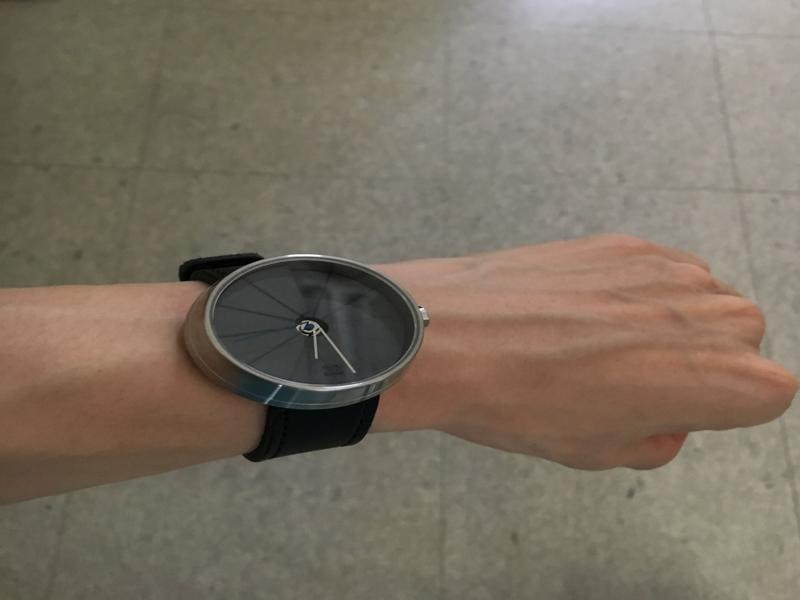watch: (179, 250, 432, 466)
